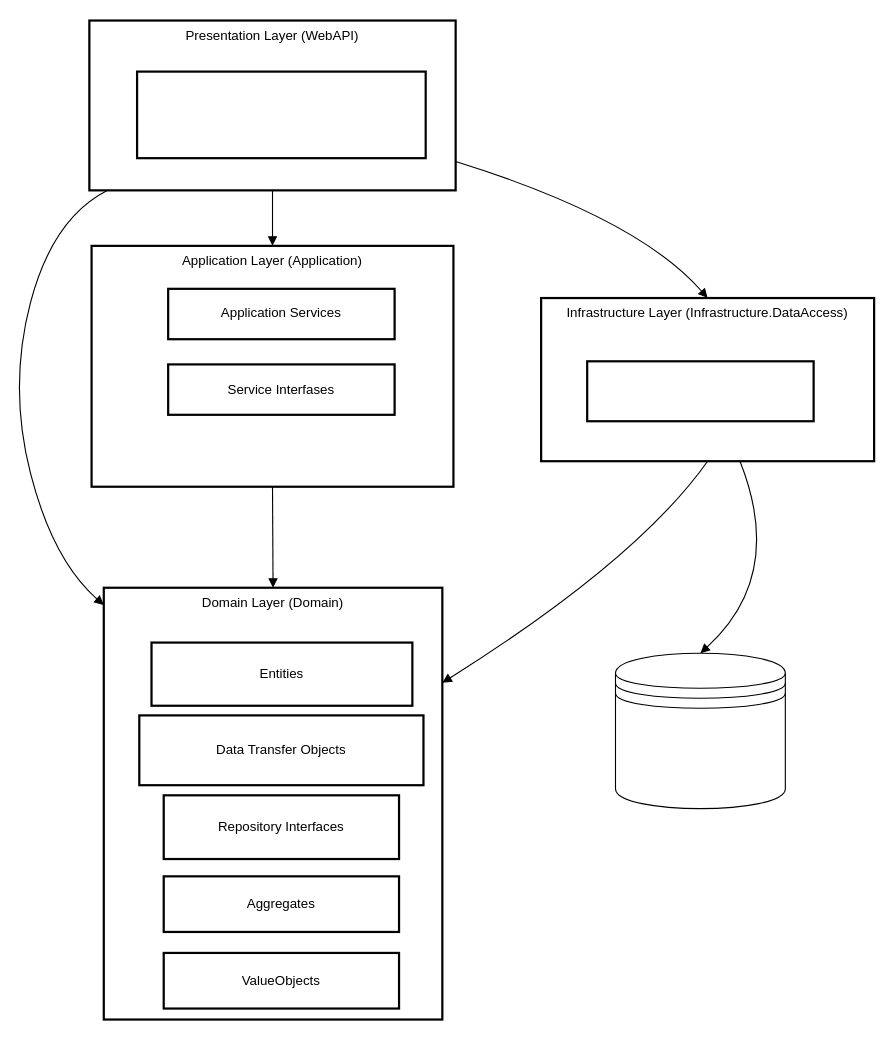
The diagram is 895 pixels wide and 1039 high, and some of its shapes have lost their labels. Each missing label, with the centre of its shape:
"API Controllers" goes at [280,114].
"Repositories" goes at [700,391].
"SQL (Postgres)" goes at [699,730].
